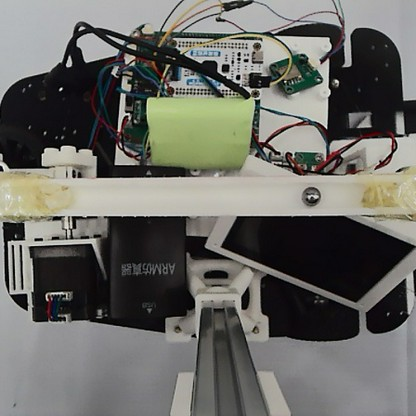ironball: (300, 184, 320, 207)
